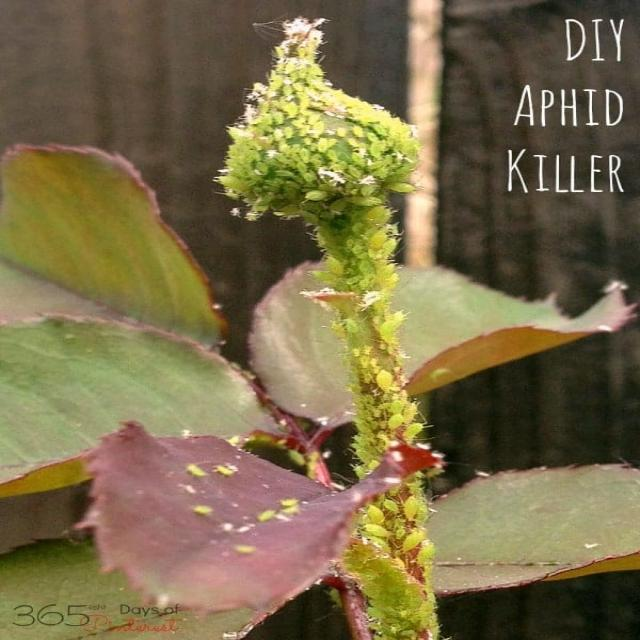Aphid-Grouped-: (203, 19, 450, 218), (300, 205, 448, 486), (331, 485, 447, 635)
